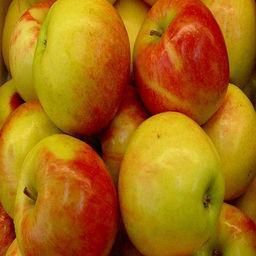apple: (118, 114, 227, 255), (13, 133, 122, 256), (34, 2, 130, 134), (136, 3, 234, 123)
